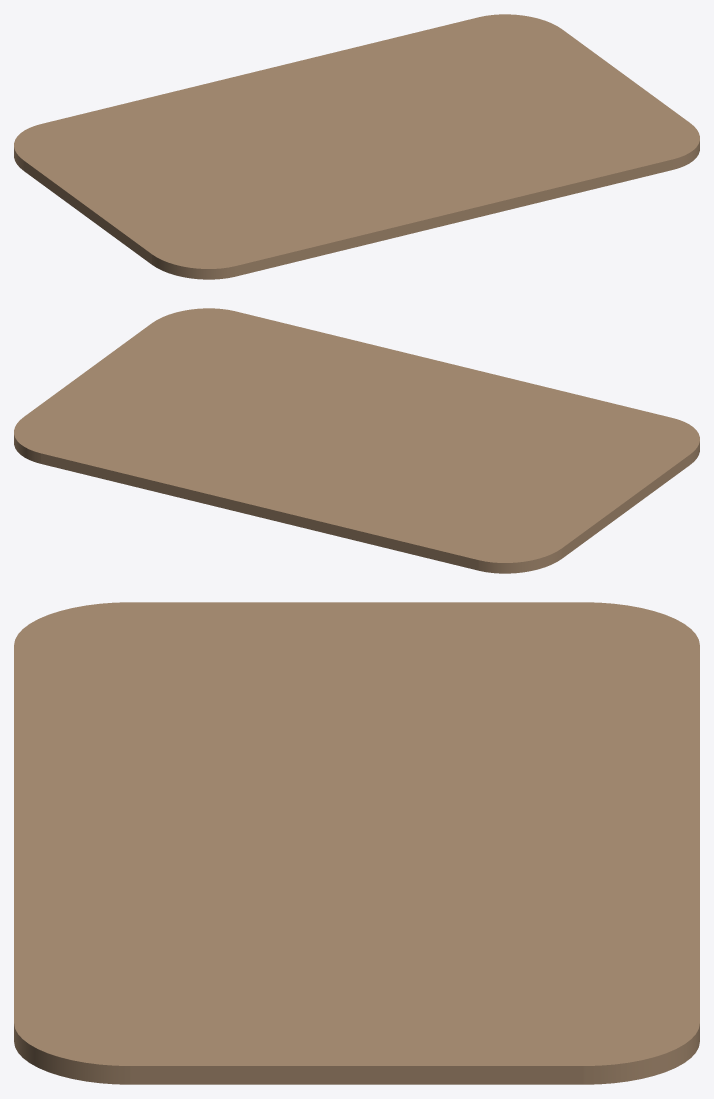
File: doormat.glb
The picture shows the model from 3 angles, top to bottom: view 1: azimuth 30°, elevation 25°; view 2: azimuth 150°, elevation 25°; view 3: azimuth 270°, elevation 25°; orthographic projection. The views are drawn at different scales.
Parts seen in each view (by area): view 1: rugDoormat(Clone); view 2: rugDoormat(Clone); view 3: rugDoormat(Clone).
Part boxes in pixels (x1,y1,x2,y2): rugDoormat(Clone): (14,14,699,279); rugDoormat(Clone): (14,308,699,573); rugDoormat(Clone): (14,602,699,1084).
Size of the model in its own units: 0.8 by 0.015 by 0.5.
